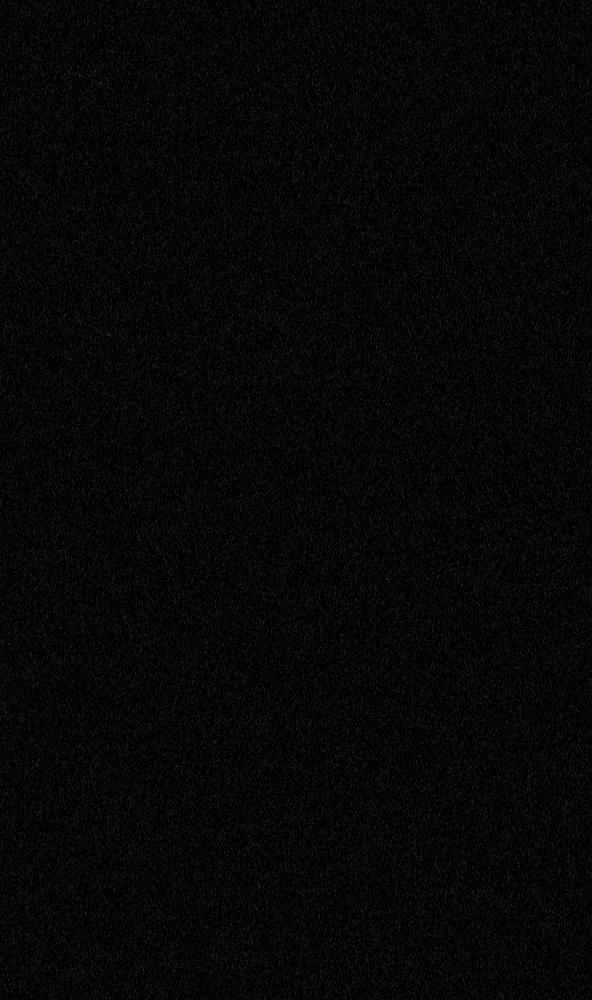signal: (0, 0, 591, 999)
